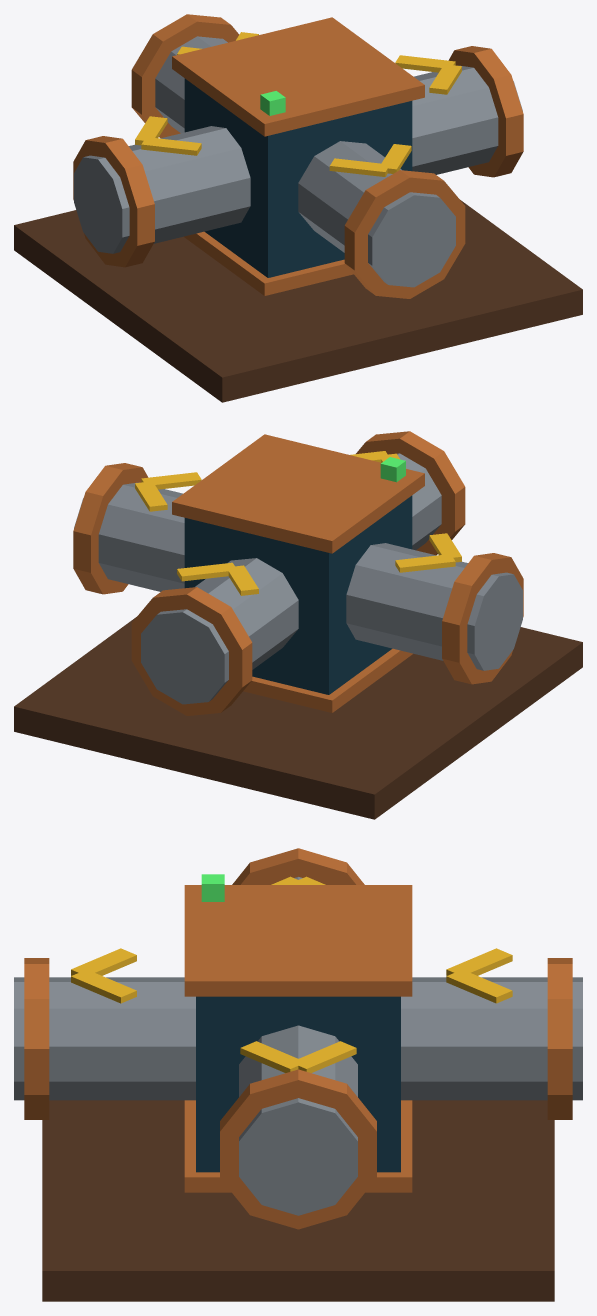
The model's file is pipe_splitter.obj.
The picture shows the model from 3 angles, top to bottom: view 1: azimuth 30°, elevation 25°; view 2: azimuth 150°, elevation 25°; view 3: azimuth 270°, elevation 25°; orthographic projection. The views are drawn at different scales.
Parts seen in each view (by area): view 1: Body, Pipe, Arrows, Lamp; view 2: Body, Pipe, Arrows, Lamp; view 3: Body, Pipe, Arrows, Lamp.
Part boxes in pixels (x1=…): Body: x1=14, y1=17, x2=582, y2=402; Pipe: x1=73, y1=14, x2=523, y2=298; Arrows: x1=135, y1=32, x2=461, y2=176; Lamp: x1=260, y1=91, x2=285, y2=115; Body: x1=14, y1=434, x2=582, y2=819; Pipe: x1=73, y1=431, x2=523, y2=715; Arrows: x1=135, y1=451, x2=461, y2=595; Lamp: x1=380, y1=457, x2=405, y2=482; Body: x1=42, y1=885, x2=554, y2=1301; Pipe: x1=14, y1=848, x2=582, y2=1229; Arrows: x1=71, y1=876, x2=512, y2=1072; Lamp: x1=201, y1=874, x2=224, y2=901.
Bounding box in the file's own units: 1 × 0.54 × 1.
